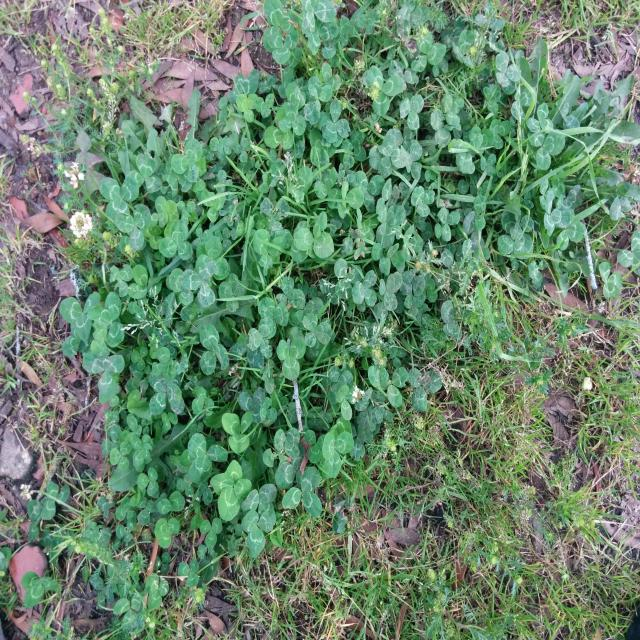Four Leaf Clover: (210, 461, 251, 521)
